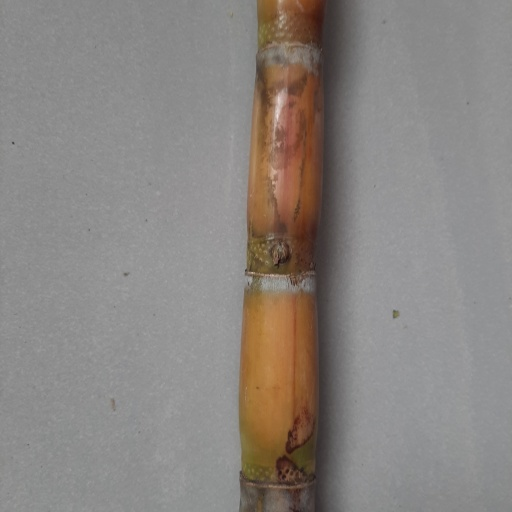Bud: (271, 239, 293, 270)
